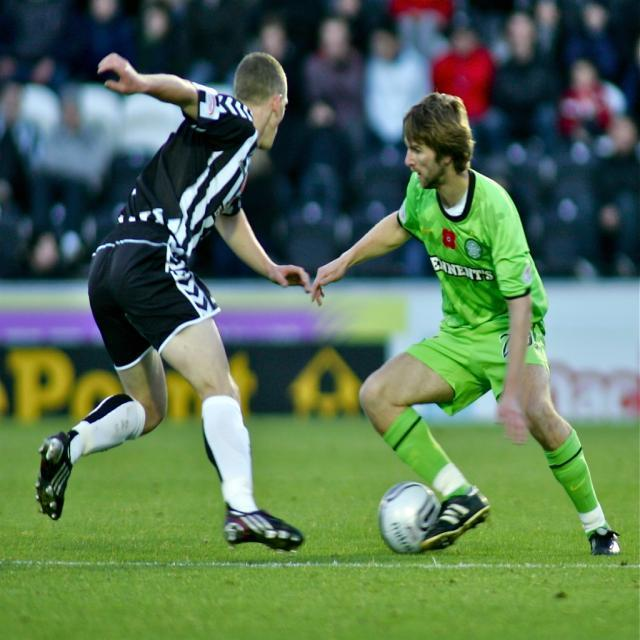football: (367, 464, 455, 577)
